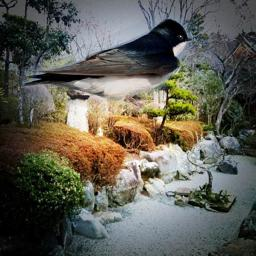Swallow: (22, 18, 192, 112)
